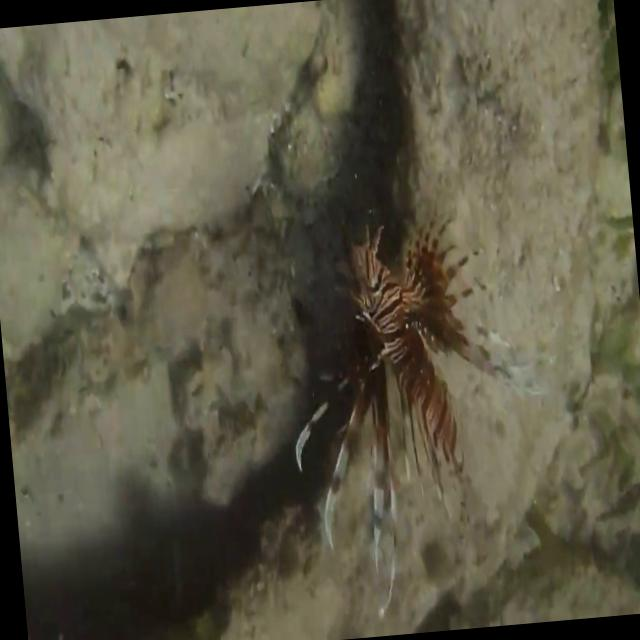Aslan Baligi: (273, 202, 535, 622)
